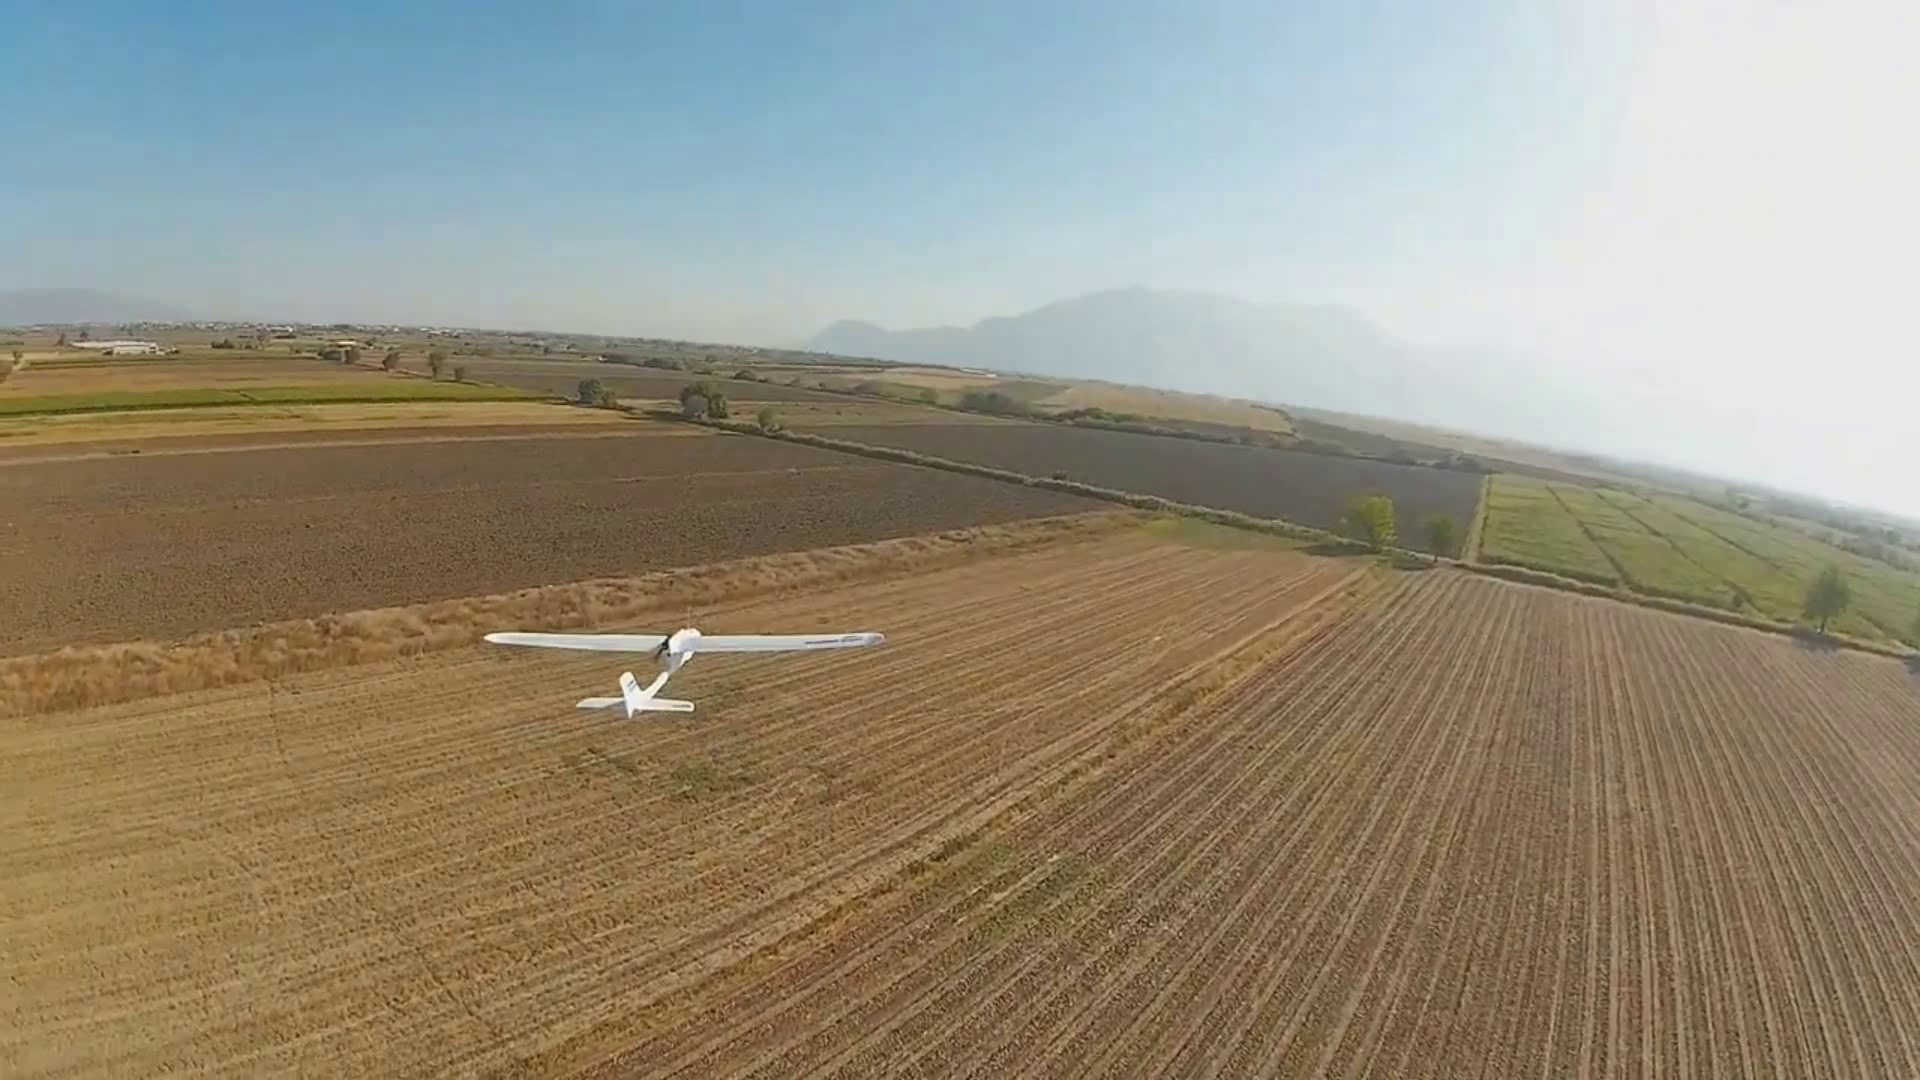airplane: (482, 618, 882, 719)
